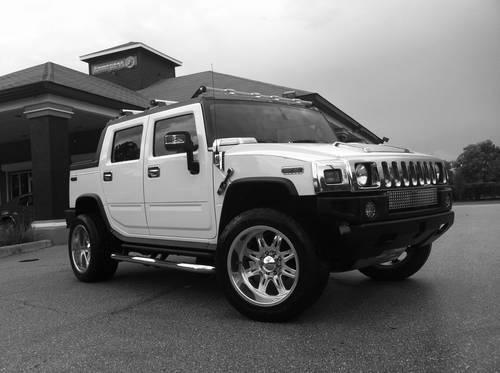car: (66, 88, 455, 322)
